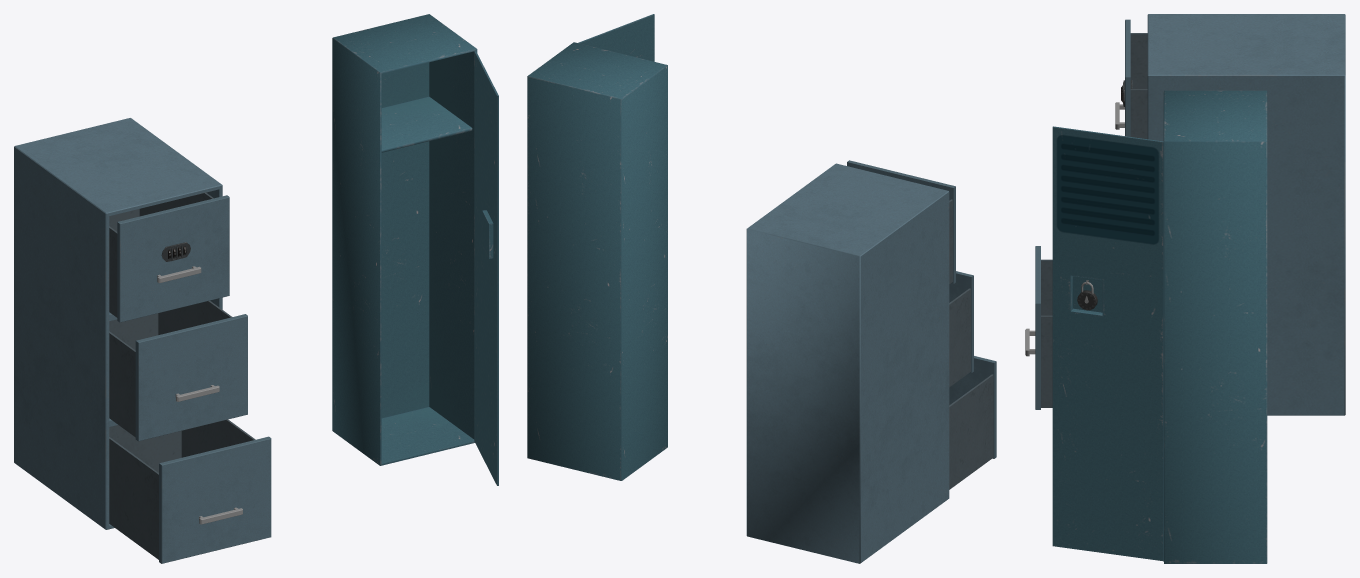
The model's file is Low Poly Lockers.glb.
3 views of the same model, side by side, from view 1: azimuth 30°, elevation 25°; view 2: azimuth 150°, elevation 25°; view 3: azimuth 270°, elevation 25° (orthographic). The views are drawn at different scales.
Parts seen in each view (by area): view 1: Locker2, Locker1, Drawer_Bottom_Locker1, Drawer_Middle_Locker1, Drawer_Top_Locker1, Door_Locker2; view 2: Locker1, Locker2, Drawer_Bottom_Locker1, Drawer_Middle_Locker1, Door_Locker2, Drawer_Top_Locker1; view 3: Locker2, Door_Locker2, Locker1, Drawer_Bottom_Locker1, Drawer_Top_Locker1.
Boxes of the visible parts, x1=… form: Locker2: x1=332, y1=14, x2=477, y2=465; Locker1: x1=14, y1=118, x2=222, y2=529; Drawer_Bottom_Locker1: x1=109, y1=419, x2=271, y2=563; Drawer_Middle_Locker1: x1=109, y1=300, x2=247, y2=441; Drawer_Top_Locker1: x1=109, y1=192, x2=229, y2=322; Door_Locker2: x1=474, y1=51, x2=498, y2=485; Locker1: x1=746, y1=163, x2=949, y2=563; Locker2: x1=527, y1=42, x2=667, y2=480; Drawer_Bottom_Locker1: x1=949, y1=356, x2=996, y2=489; Drawer_Middle_Locker1: x1=949, y1=271, x2=973, y2=387; Door_Locker2: x1=578, y1=14, x2=654, y2=61; Drawer_Top_Locker1: x1=847, y1=160, x2=955, y2=284; Locker2: x1=1163, y1=90, x2=1267, y2=563; Door_Locker2: x1=1052, y1=126, x2=1163, y2=561; Locker1: x1=1147, y1=14, x2=1345, y2=415; Drawer_Bottom_Locker1: x1=1025, y1=246, x2=1052, y2=409; Drawer_Top_Locker1: x1=1115, y1=19, x2=1147, y2=139.
Size of the model in its own units: 2.9 by 2.87 by 1.97.
2 materials, 2 textured.
